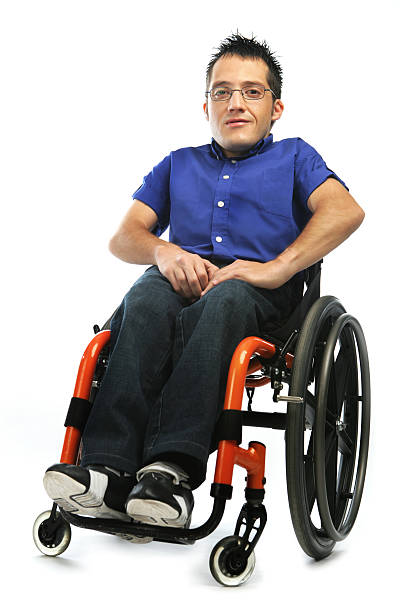wheelchair: (31, 32, 371, 585)
